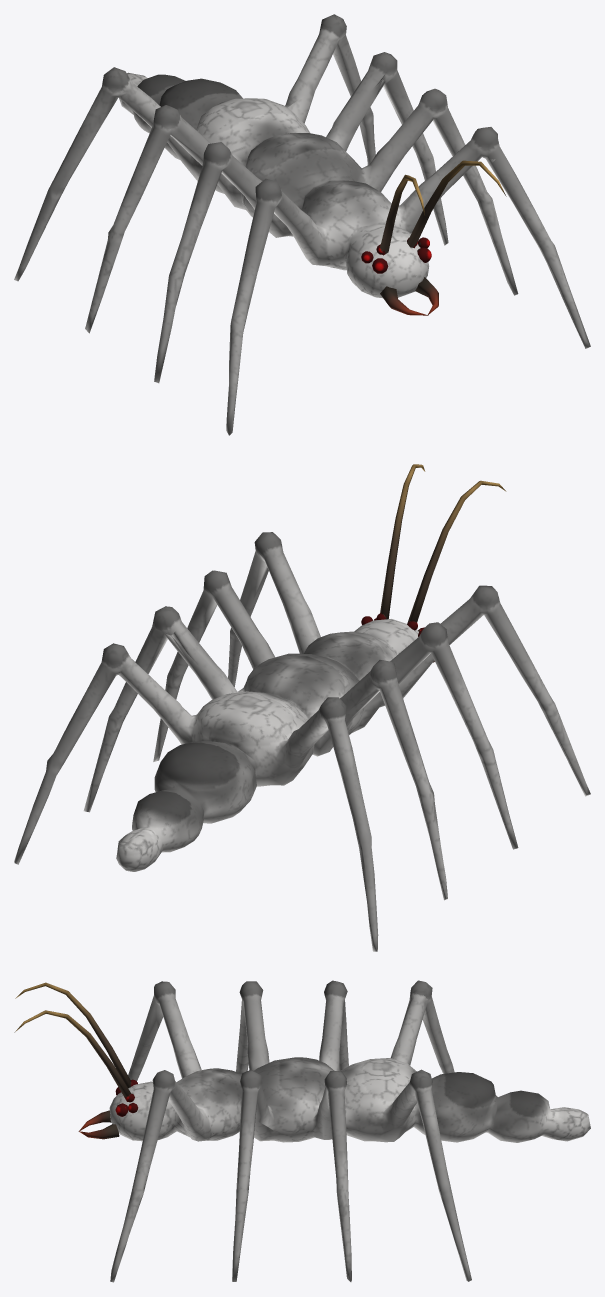
File: BilateralManyLegs.fbx
The picture shows the model from 3 angles, top to bottom: view 1: azimuth 30°, elevation 25°; view 2: azimuth 150°, elevation 25°; view 3: azimuth 270°, elevation 25°; orthographic projection. The views are drawn at different scales.
Visible parts, largest first — view 1: BilateralManyLegs; view 2: BilateralManyLegs; view 3: BilateralManyLegs.
Part boxes in pixels (box(x1,y1,x2,y2)): BilateralManyLegs: box(14, 14, 590, 435); BilateralManyLegs: box(14, 464, 590, 951); BilateralManyLegs: box(14, 980, 590, 1282).
Bounding box in the file's own units: 0.6151 × 0.4055 × 1.
2 materials, 2 textured.
